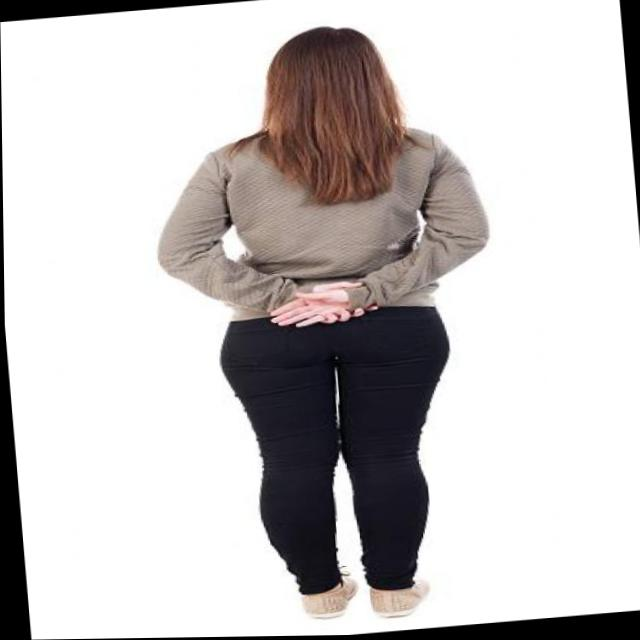no helmet: (252, 12, 418, 210)
